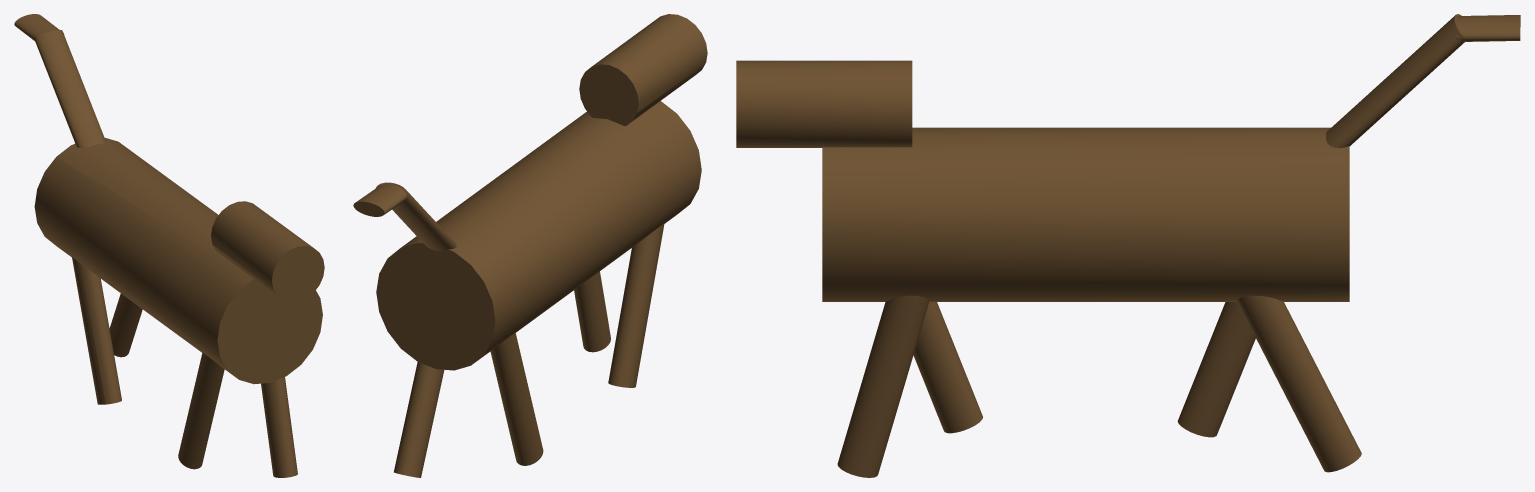
The model's file is dog.fbx.
The picture shows the model from 3 angles, left to right: view 1: azimuth 30°, elevation 25°; view 2: azimuth 150°, elevation 25°; view 3: azimuth 270°, elevation 25°; orthographic projection. The views are drawn at different scales.
Visible parts, largest first — view 1: Mesh01; view 2: Mesh01; view 3: Mesh01.
Part boxes in pixels (x1,y1,x2,y2): Mesh01: [14, 14, 324, 477]; Mesh01: [353, 14, 707, 477]; Mesh01: [736, 14, 1520, 477].
Bounding box in the file's own units: 64 × 175 × 285.
